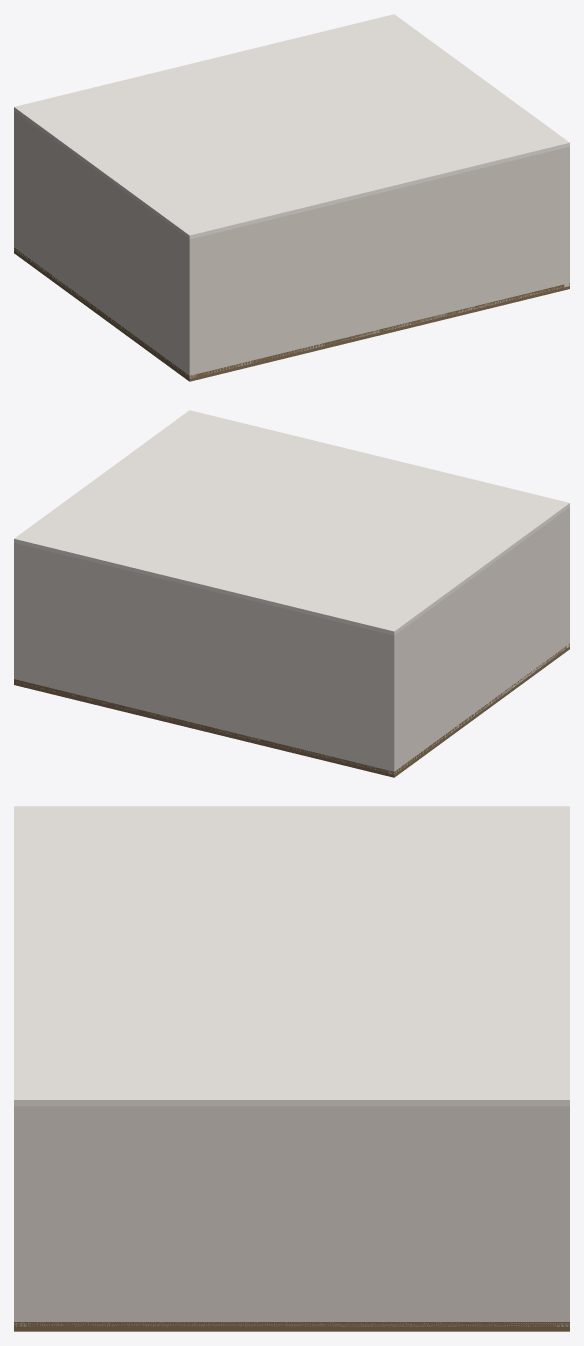
Rendered from PhotoRoom.glb.
3 renders of one model, top to bottom at view 1: azimuth 30°, elevation 25°; view 2: azimuth 150°, elevation 25°; view 3: azimuth 270°, elevation 25°, orthographic. The views are drawn at different scales.
Size of the model in its own units: 10 by 3.68 by 8.
